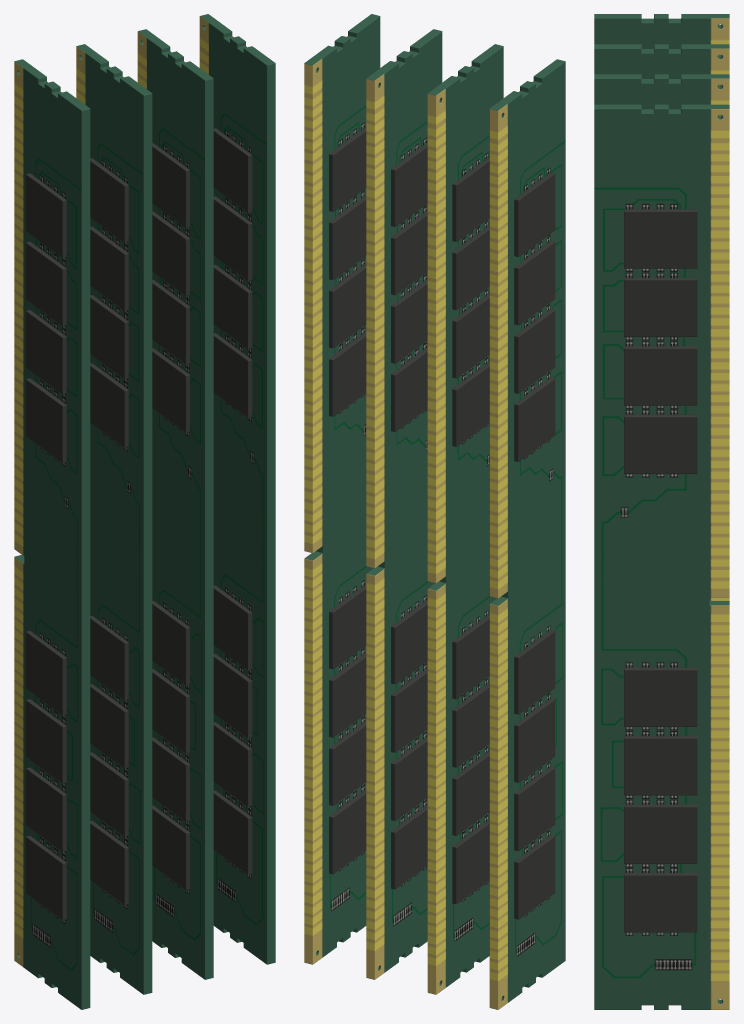
File: RamTypeOneQuad.fbx
The picture shows the model from 3 angles, left to right: view 1: azimuth 30°, elevation 25°; view 2: azimuth 150°, elevation 25°; view 3: azimuth 270°, elevation 25°; orthographic projection.
Visible parts, largest first — view 1: RamStick1, RamStick2, RamStick4, RamStick3; view 2: RamStick1, RamStick4, RamStick2, RamStick3; view 3: RamStick4, RamStick3, RamStick1, RamStick2.
Boxes of the visible parts, x1,y1,x2,y2 form: RamStick1: (14, 59, 90, 1009); RamStick2: (76, 44, 152, 994); RamStick4: (199, 14, 275, 964); RamStick3: (137, 29, 213, 979); RamStick1: (489, 59, 565, 1009); RamStick4: (304, 14, 380, 964); RamStick2: (427, 44, 503, 994); RamStick3: (366, 29, 442, 979); RamStick4: (594, 104, 729, 1009); RamStick3: (594, 74, 729, 600); RamStick1: (594, 14, 729, 54); RamStick2: (594, 44, 729, 84).
Bounding box in the file's own units: 6.23 × 26.33 × 3.58.
